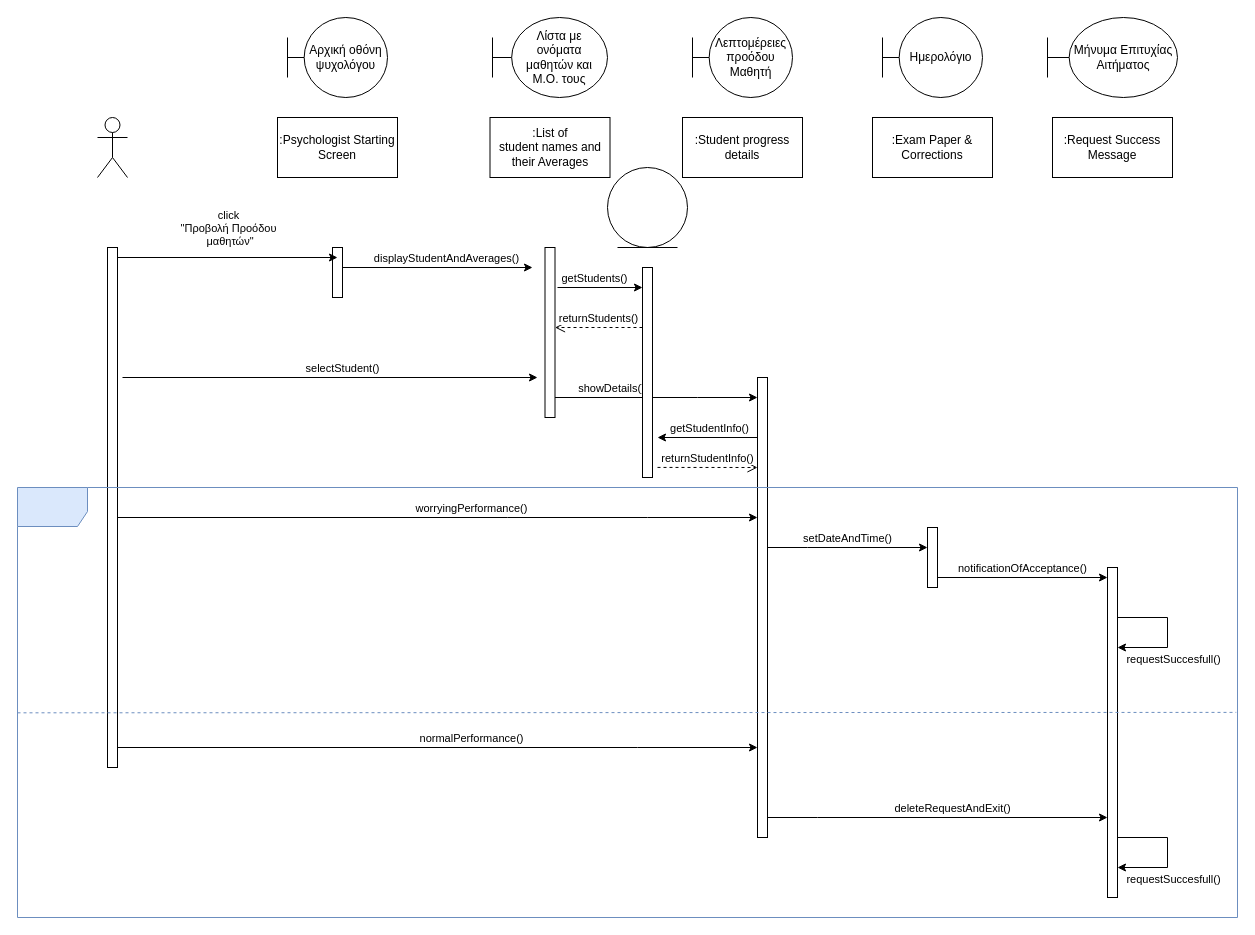
The diagram is 1255 pixels wide and 935 high, and some of its shapes have lost their labels. Here are the shapes that lost their labels. From the top down, the box of each, then its label:
(96, 116, 128, 178): Ψυχολόγος
(606, 166, 688, 248): Μαθητής
(16, 486, 1238, 918): Alternative
